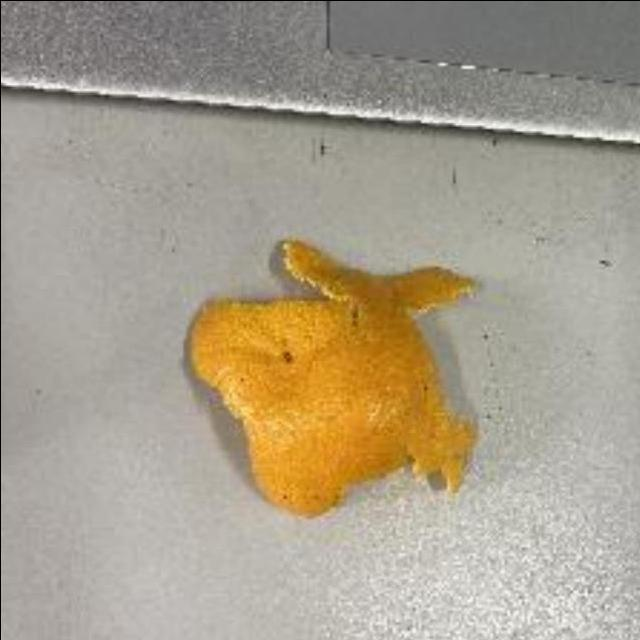orange peel: (178, 239, 502, 522)
